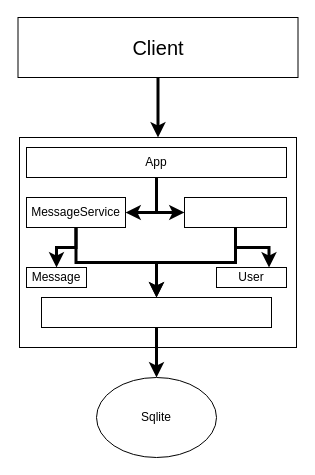
The diagram is 315 pixels wide and 475 high, and some of its shapes have lost their labels. The box of each missing label's shape, as (x1, y1, x2, y2) in pixels:
Database: (40, 296, 272, 328)
Server: (18, 136, 296, 348)
UserService: (184, 196, 286, 228)
